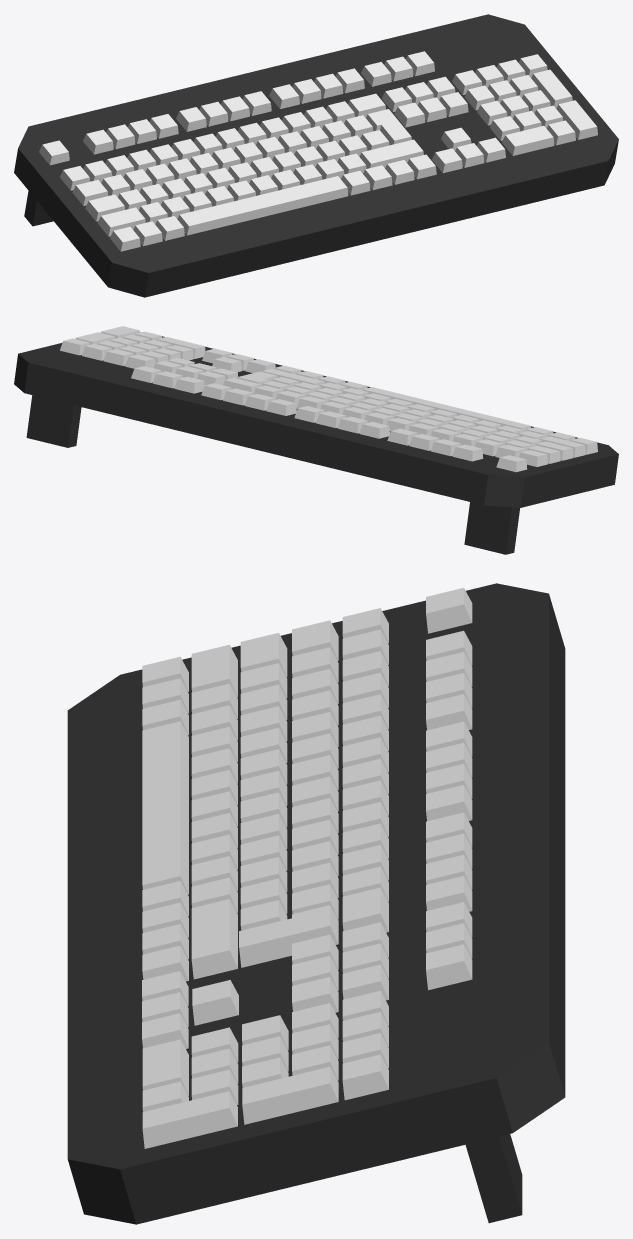
File: Prop_Keyboard.FBX
The picture shows the model from 3 angles, top to bottom: view 1: azimuth 30°, elevation 25°; view 2: azimuth 150°, elevation 25°; view 3: azimuth 270°, elevation 25°; orthographic projection. The views are drawn at different scales.
Visible parts, largest first — view 1: Keyboard; view 2: Keyboard; view 3: Keyboard.
Boxes of the visible parts, <box> form: Keyboard: <box>14,14,618,297</box>; Keyboard: <box>14,326,618,554</box>; Keyboard: <box>67,583,565,1224</box>.
Size of the model in its own units: 37.95 by 6.18 by 16.14.
1 material, 1 textured.
